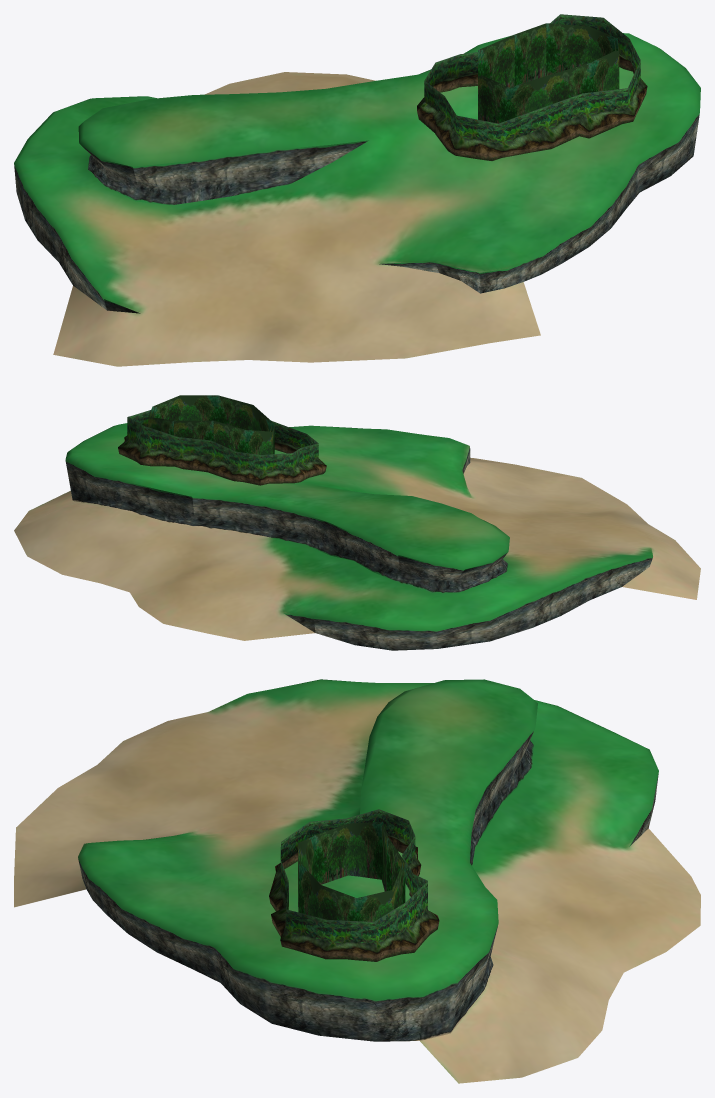
The model's file is pir_m_are_isl_pvpFrench.fbx.
The picture shows the model from 3 angles, top to bottom: view 1: azimuth 30°, elevation 25°; view 2: azimuth 150°, elevation 25°; view 3: azimuth 270°, elevation 25°; orthographic projection. The views are drawn at different scales.
Parts seen in each view (by area): view 1: floor, berm, rock_wall2, rock_wall1, trees_reversed, trees, rock_wall3; view 2: floor, rock_wall3, berm, rock_wall2, rock_wall4, trees, trees_reversed; view 3: floor, rock_wall1, berm, trees_reversed, trees, rock_wall4, rock_wall2.
Boxes of the visible parts, x1=… form: floor: x1=14, y1=33, x2=700, y2=366; berm: x1=417, y1=14, x2=647, y2=160; rock_wall2: x1=81, y1=140, x2=368, y2=205; rock_wall1: x1=379, y1=112, x2=699, y2=293; trees_reversed: x1=481, y1=24, x2=616, y2=88; trees: x1=478, y1=23, x2=619, y2=123; rock_wall3: x1=14, y1=163, x2=140, y2=313; floor: x1=14, y1=423, x2=700, y2=640; rock_wall3: x1=283, y1=557, x2=652, y2=650; berm: x1=118, y1=410, x2=326, y2=485; rock_wall2: x1=271, y1=507, x2=508, y2=593; rock_wall4: x1=65, y1=460, x2=272, y2=537; trees: x1=148, y1=395, x2=274, y2=454; trees_reversed: x1=151, y1=396, x2=271, y2=431; floor: x1=14, y1=679, x2=700, y2=1083; rock_wall1: x1=78, y1=858, x2=423, y2=1041; berm: x1=269, y1=809, x2=439, y2=961; trees_reversed: x1=300, y1=823, x2=402, y2=899; trees: x1=298, y1=821, x2=405, y2=921; rock_wall4: x1=419, y1=926, x2=497, y2=1040; rock_wall2: x1=470, y1=728, x2=534, y2=865.
Size of the model in its own units: 102378 by 19131 by 78408.
2 materials, 2 textured.
